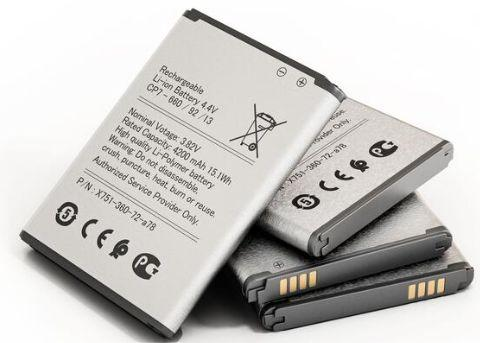battery: (17, 6, 345, 343)
